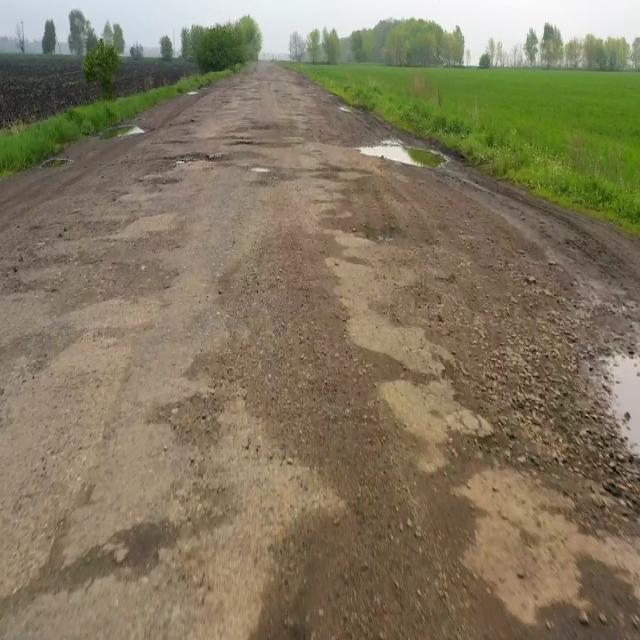road-pothole: (589, 340, 637, 457), (365, 142, 447, 172), (162, 149, 230, 177), (84, 123, 153, 147), (27, 152, 79, 175)
